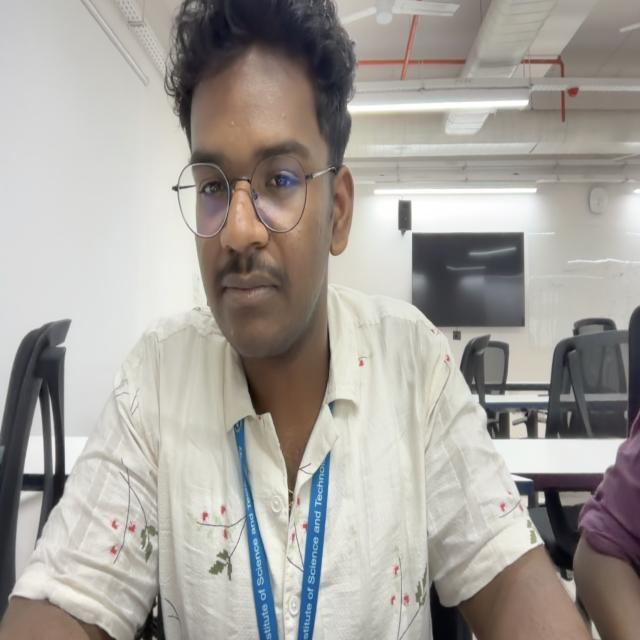sai: (165, 0, 355, 361)
